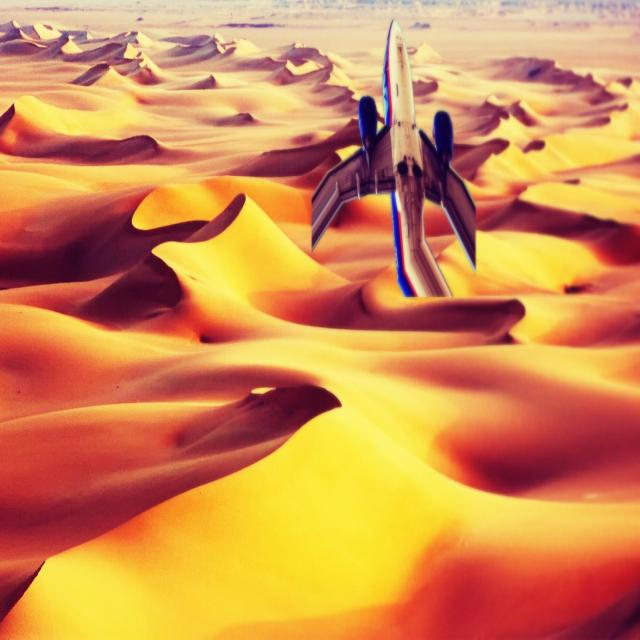airplane: (310, 18, 477, 298)
